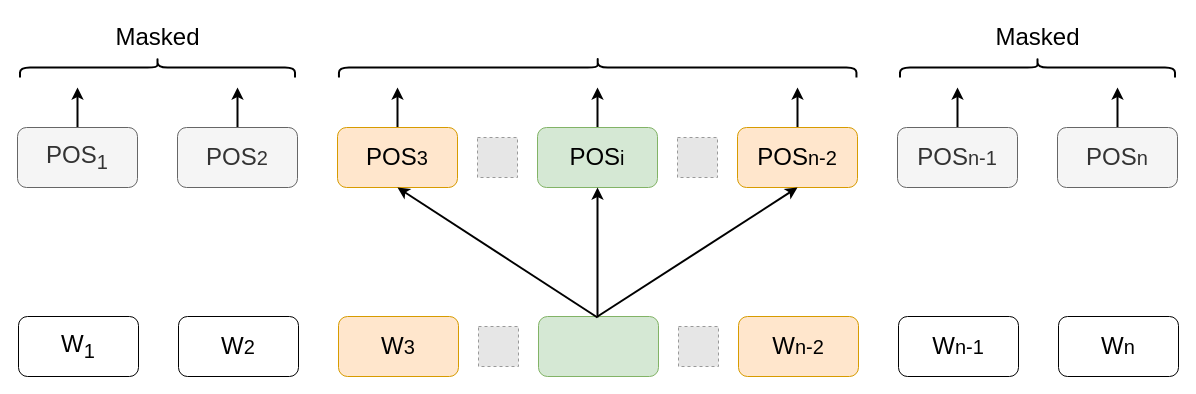
Some shapes in this 1196 by 394 pixel diagram are drawn without their labels. Grey dashed boxes stand in for pictures. The box of each missing label's shape, as (x1, y1, x2, y2) in pixels:
Keep Intact: (338, 56, 857, 78)
W i: (538, 316, 658, 376)
